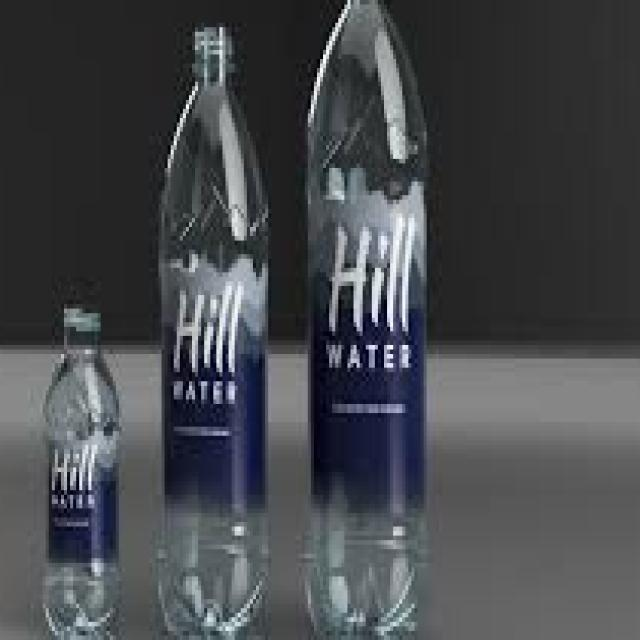organic: (300, 2, 447, 636), (150, 20, 275, 633), (38, 296, 139, 636)
